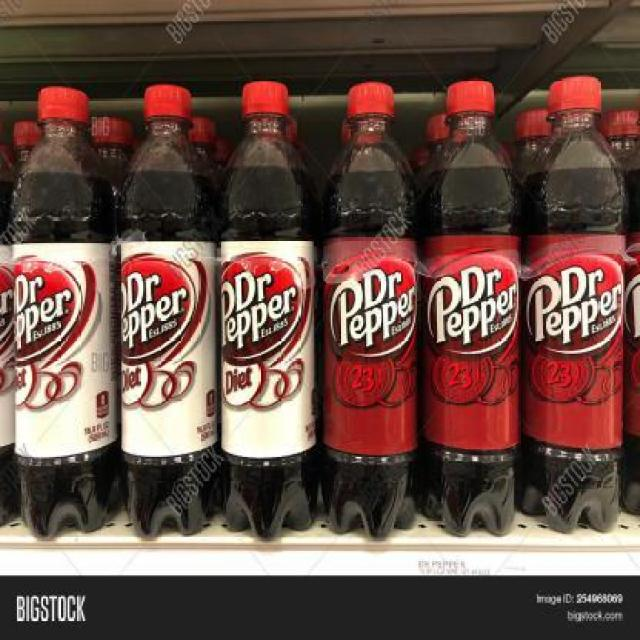Drinks: (116, 83, 224, 539), (522, 76, 628, 533), (13, 86, 118, 542), (218, 79, 320, 543), (419, 78, 521, 537), (321, 80, 417, 545)
